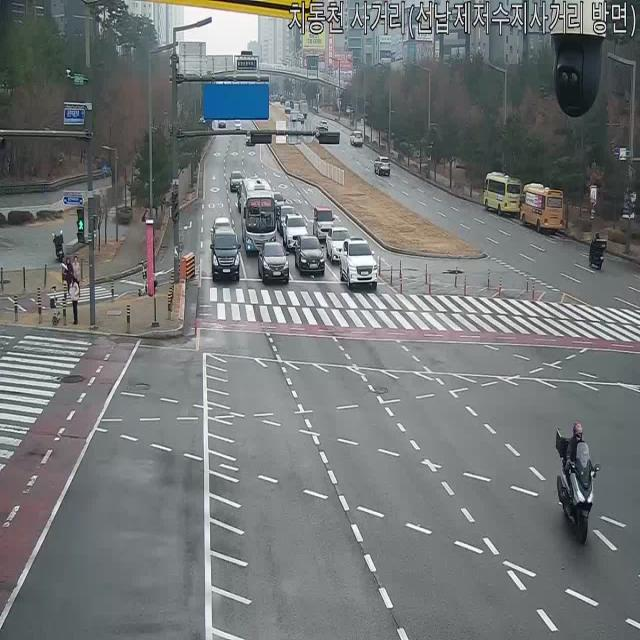Bus: (240, 176, 278, 257), (518, 182, 566, 234), (482, 172, 523, 216), (296, 98, 308, 120)
Car: (339, 238, 378, 288), (210, 229, 240, 283), (258, 241, 290, 285), (294, 234, 325, 277), (326, 224, 352, 264), (283, 214, 309, 251), (312, 207, 337, 245), (210, 216, 236, 249), (236, 180, 260, 215), (276, 204, 298, 234), (267, 190, 287, 217), (228, 171, 246, 193), (372, 155, 390, 176), (245, 129, 258, 147), (349, 130, 363, 146), (288, 108, 300, 125), (315, 124, 327, 139), (216, 114, 227, 130), (319, 118, 329, 128)
Motorcycle: (550, 405, 605, 552), (588, 228, 606, 268)
